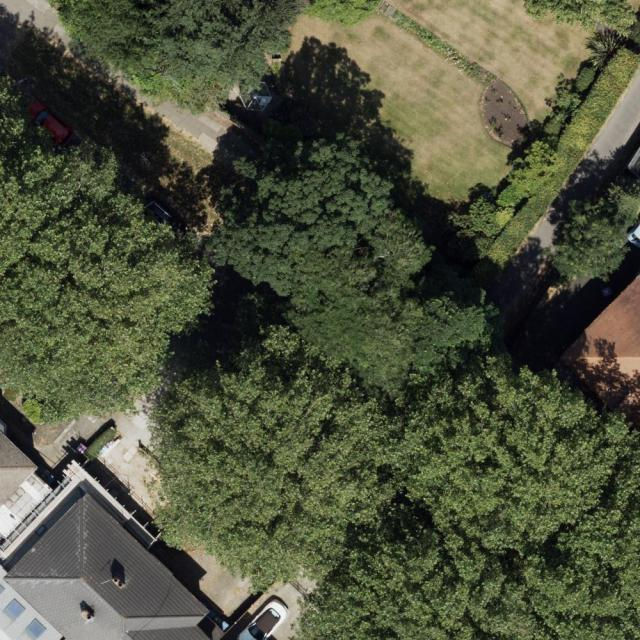roof: (0, 496, 217, 640), (542, 268, 640, 438), (0, 422, 54, 546)
skylight: (24, 615, 47, 638), (4, 598, 26, 620)
